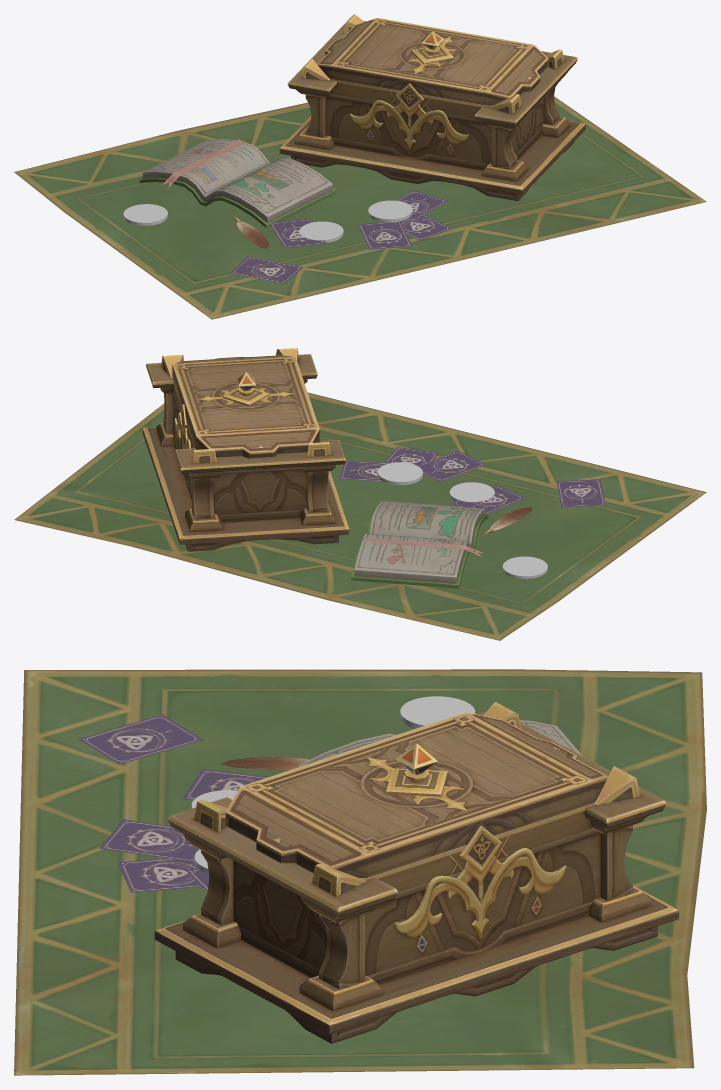
The model's file is Homeworld_Interior_Md_Decoration_Prop_Cardmat_02_Vo.fbx.
The picture shows the model from 3 angles, top to bottom: view 1: azimuth 30°, elevation 25°; view 2: azimuth 150°, elevation 25°; view 3: azimuth 270°, elevation 25°; orthographic projection. The views are drawn at different scales.
Parts seen in each view (by area): view 1: Homeworld_Interior_Md_Decoration_Prop_Cardmat_02_Vo; view 2: Homeworld_Interior_Md_Decoration_Prop_Cardmat_02_Vo; view 3: Homeworld_Interior_Md_Decoration_Prop_Cardmat_02_Vo.
Part boxes in pixels (x1=…): Homeworld_Interior_Md_Decoration_Prop_Cardmat_02_Vo: x1=14, y1=14, x2=706, y2=319; Homeworld_Interior_Md_Decoration_Prop_Cardmat_02_Vo: x1=14, y1=348, x2=706, y2=640; Homeworld_Interior_Md_Decoration_Prop_Cardmat_02_Vo: x1=14, y1=669, x2=706, y2=1075.
Size of the model in its own units: 1.08 by 0.2553 by 0.7796.
